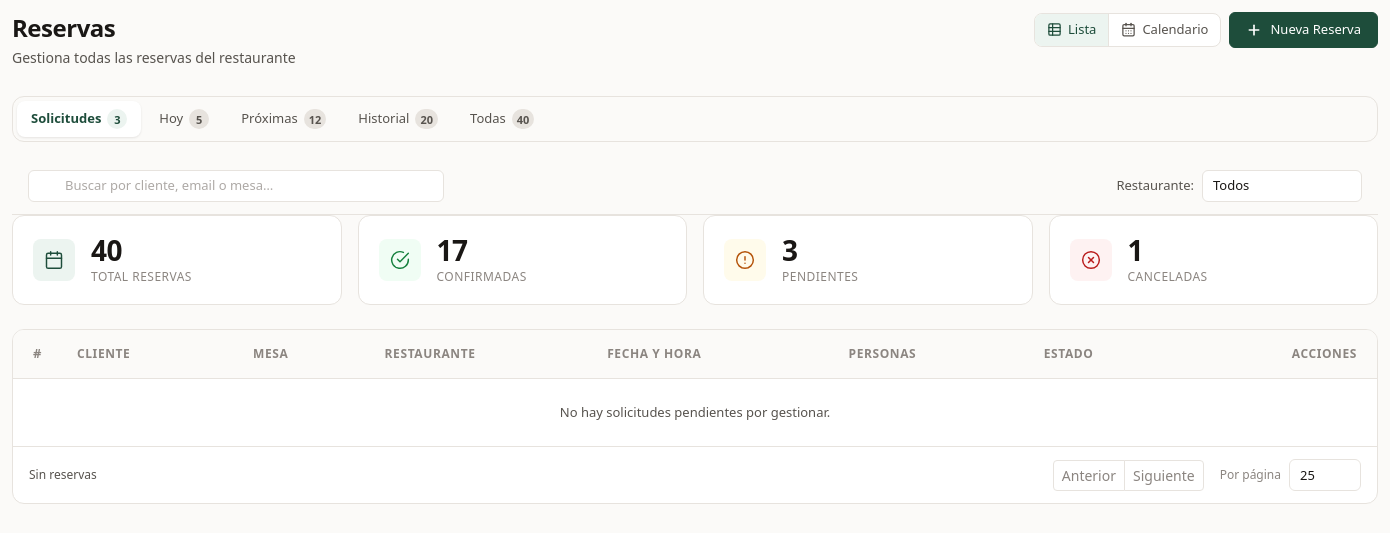
it: Panel de reservas › distingue una vista vacía de una búsqueda sin resultados
The width and height of the screenshot is (1390, 533).
expect the text "No hay solicitudes pendientes por gestionar." is shown: met, box [13,378,1377,446]
In the search field named "buscar reservas": (236, 186) [28,170,444,202], type "zzz"
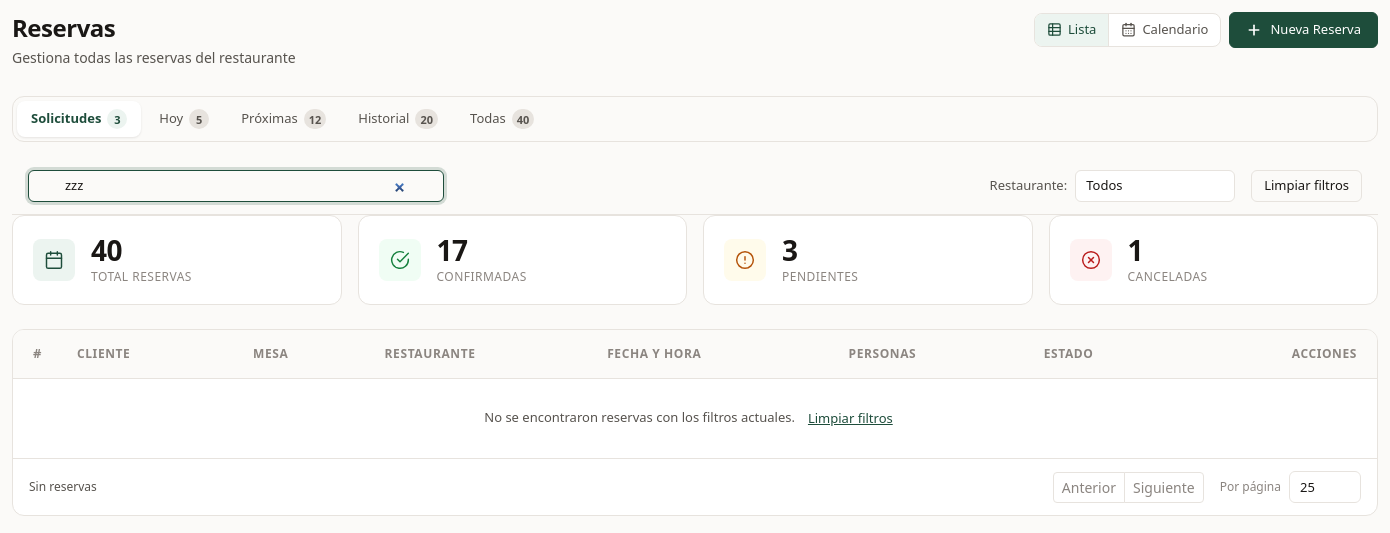
expect the text "No se encontraron reservas con los filtros actuales" is shown: met, box [484,408,795,426]
